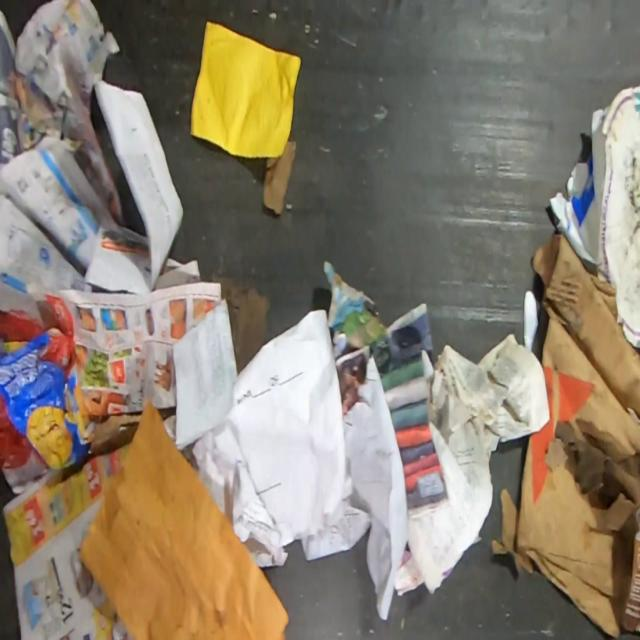cardboard: (489, 233, 640, 638), (76, 397, 291, 639), (622, 529, 640, 632)
soft_plastic: (0, 293, 90, 487)
